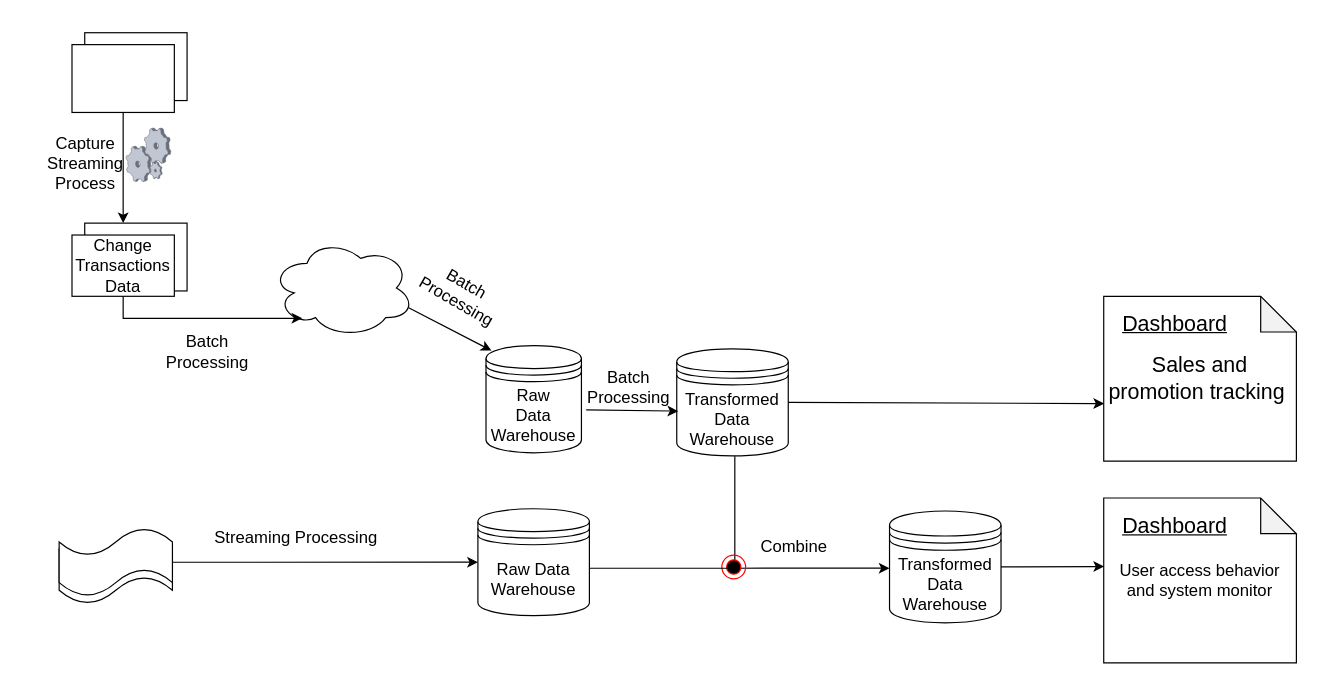
Image size: 1340x699. Some labels were removed from this diagram. Each missing label, with the centre of its shape:
"Data lake" belongs at (x=342, y=287).
"Log Data" belongs at (x=115, y=561).
"Transactions Data" belongs at (x=122, y=77).
